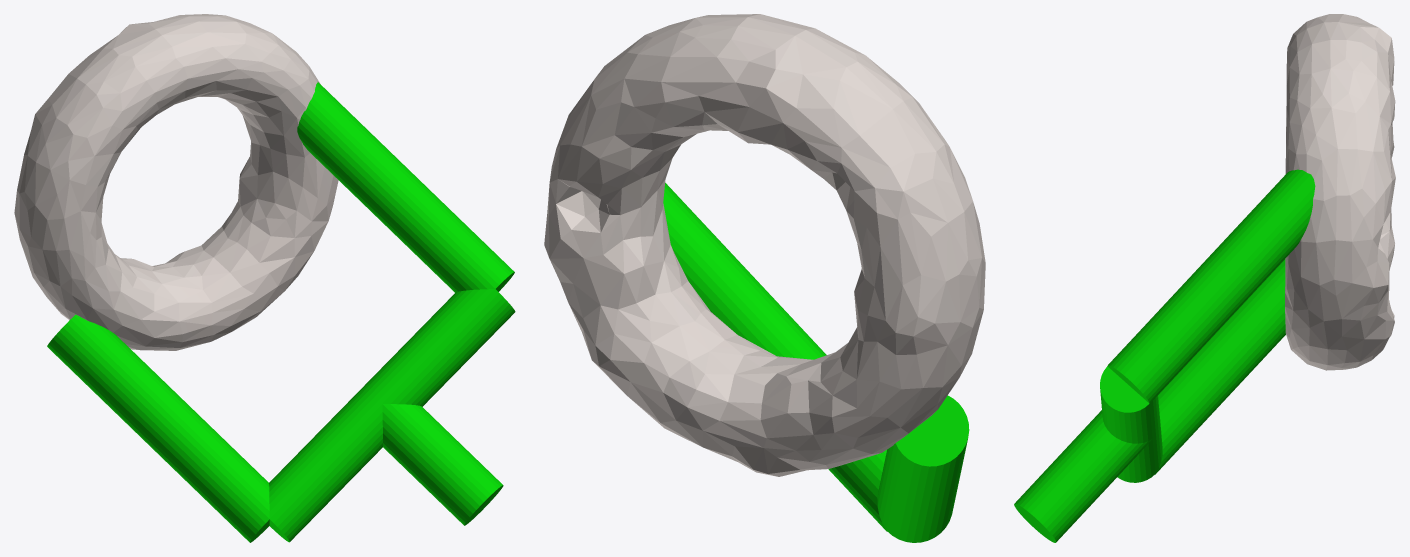
Rendered from round_000_trial_000.obj.
3 renders of one model, left to right at view 1: azimuth 30°, elevation 25°; view 2: azimuth 150°, elevation 25°; view 3: azimuth 270°, elevation 25°, orthographic. The views are drawn at different scales.
Visible parts, largest first — view 1: geometry_0, geometry_1; view 2: geometry_0, geometry_1; view 3: geometry_1, geometry_0.
Part boxes in pixels (bbox=[...]): geometry_0: bbox=[14, 14, 338, 350]; geometry_1: bbox=[47, 82, 515, 542]; geometry_0: bbox=[544, 14, 985, 476]; geometry_1: bbox=[663, 183, 969, 542]; geometry_1: bbox=[1014, 169, 1315, 542]; geometry_0: bbox=[1285, 14, 1395, 370].
Bounding box in the file's own units: 0.0792 × 0.0866 × 0.0668.
